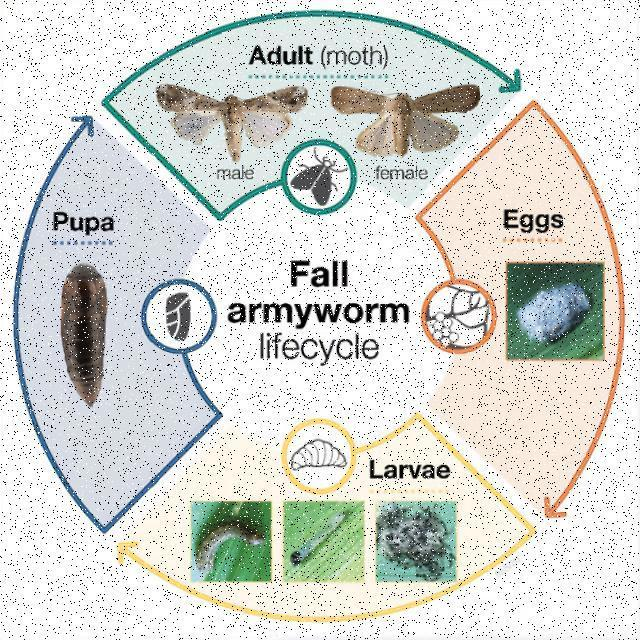army worm: (47, 257, 125, 419), (514, 274, 595, 349), (283, 501, 360, 579), (197, 509, 268, 575)
